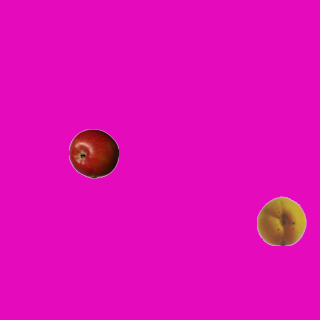Apple Braeburn: (68, 128, 118, 178)
Peach 2: (256, 195, 306, 245)
